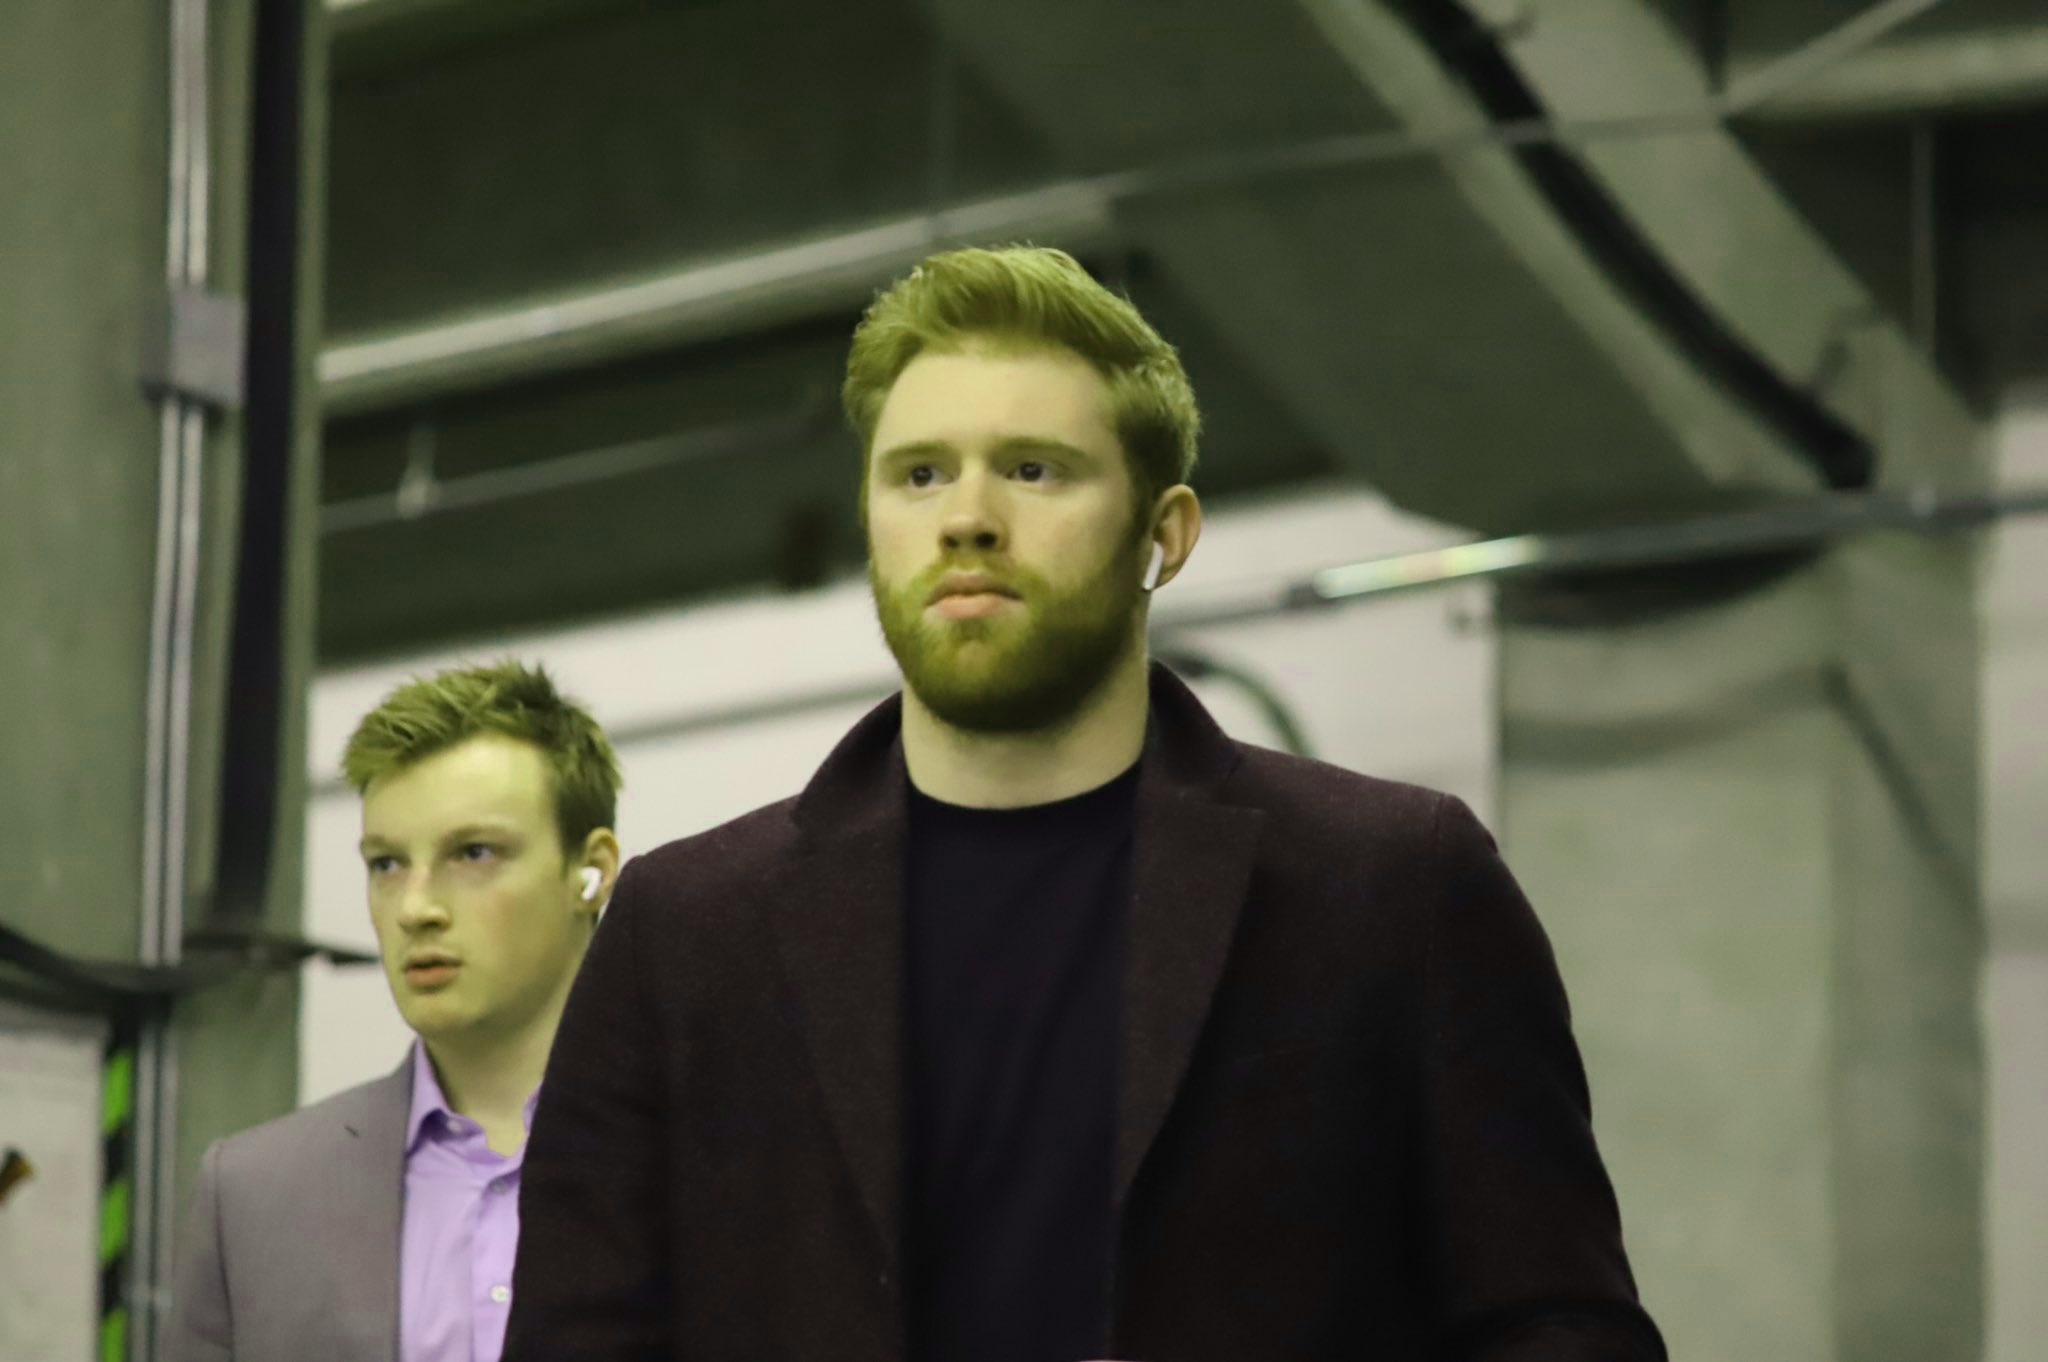earphone: (1139, 485, 1202, 593), (571, 824, 621, 914)
